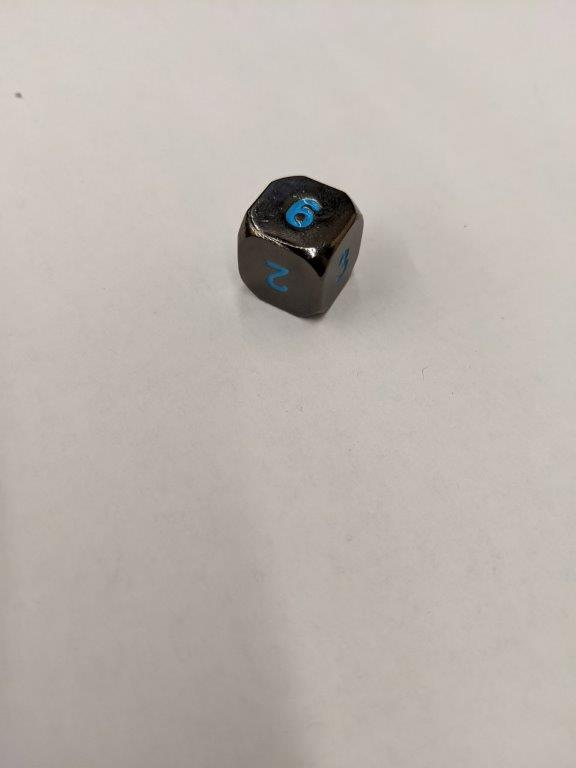d6-6: (236, 175, 368, 325)
